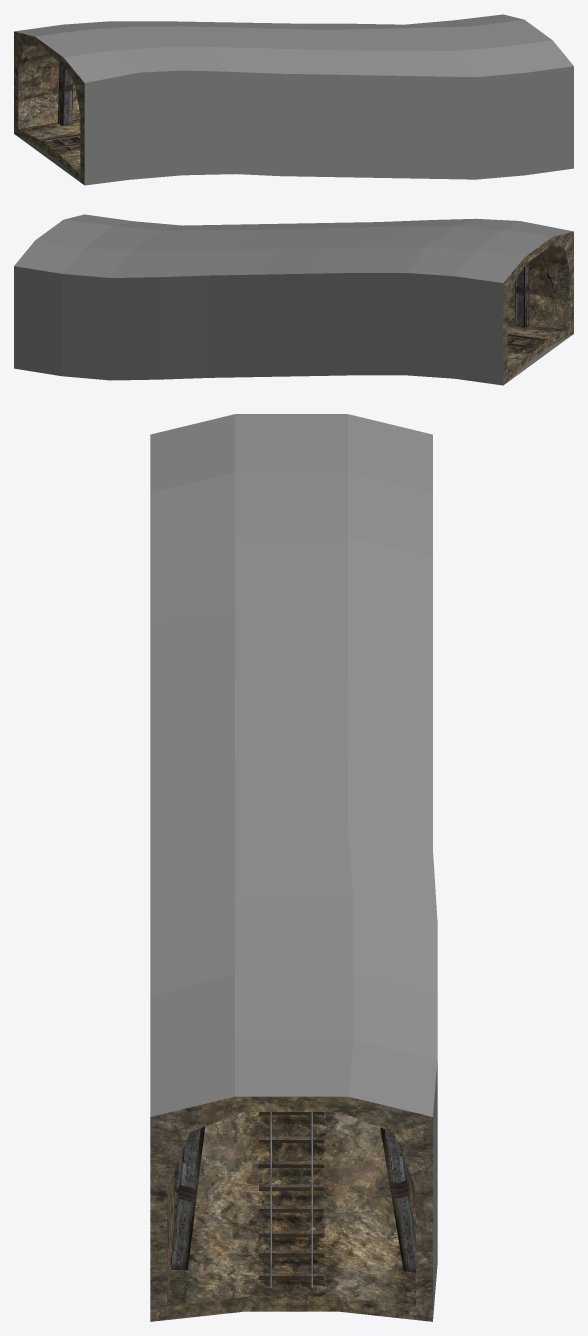
Rendered from svgoldmine04.dae.
The picture shows the model from 3 angles, top to bottom: view 1: azimuth 30°, elevation 25°; view 2: azimuth 150°, elevation 25°; view 3: azimuth 270°, elevation 25°; orthographic projection. The views are drawn at different scales.
Visible parts, largest first — view 1: unnamed_object1_sep1180-0, unnamed_object1_sep1095-0, unnamed_object1_sep733-0; view 2: unnamed_object1_sep1180-0, unnamed_object1_sep1095-0, unnamed_object1_sep733-0; view 3: unnamed_object1_sep1180-0, unnamed_object1_sep1095-0, unnamed_object1_sep733-0.
Part boxes in pixels (box(x1,y1,x2,y2)): unnamed_object1_sep1180-0: box(14, 14, 573, 185); unnamed_object1_sep1095-0: box(58, 62, 72, 125); unnamed_object1_sep733-0: box(44, 134, 80, 150); unnamed_object1_sep1180-0: box(14, 214, 573, 385); unnamed_object1_sep1095-0: box(515, 262, 529, 327); unnamed_object1_sep733-0: box(507, 334, 543, 350); unnamed_object1_sep1180-0: box(150, 414, 437, 1321); unnamed_object1_sep1095-0: box(171, 1127, 415, 1272); unnamed_object1_sep733-0: box(259, 1112, 324, 1292).
Size of the model in its own units: 6000 by 2520 by 1525.
